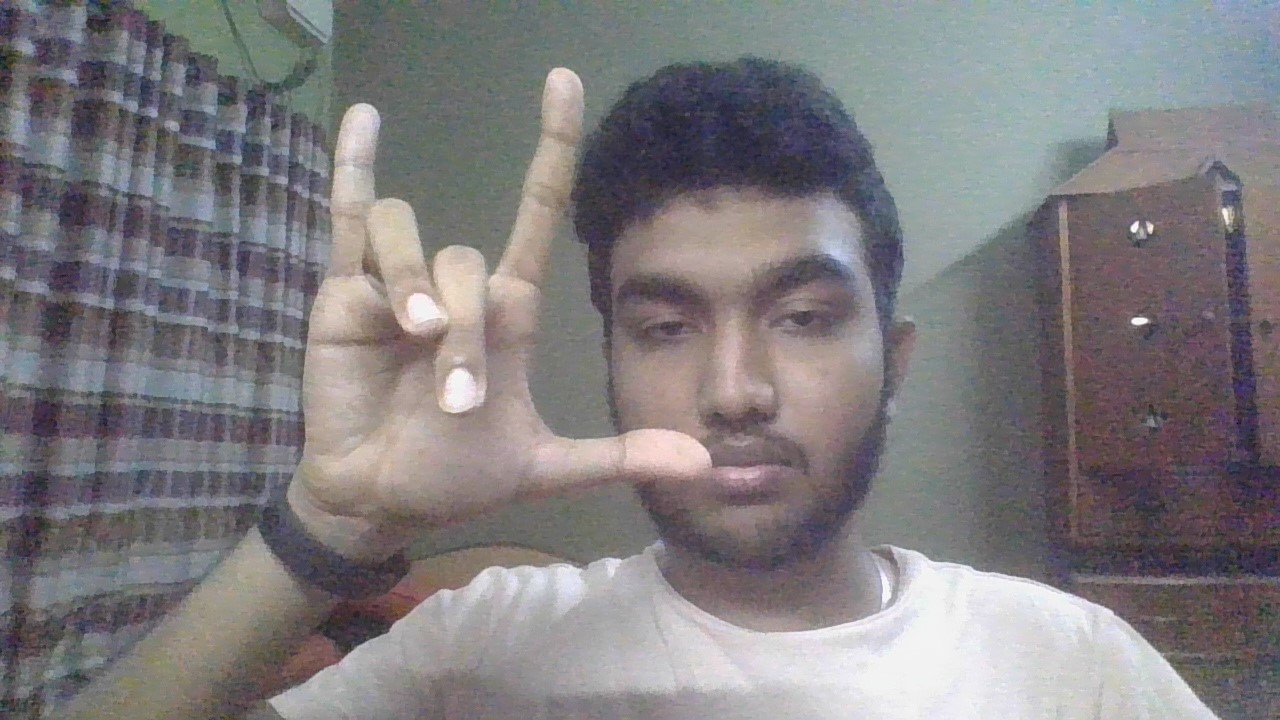I Love You: (283, 62, 720, 557)
